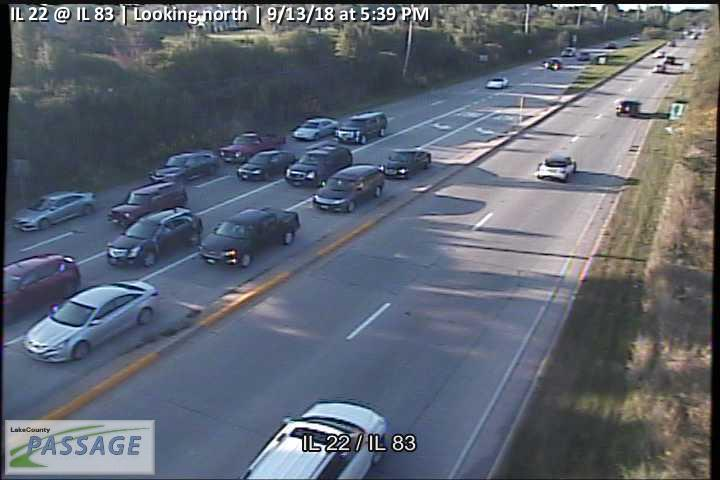SUV: (240, 400, 389, 480), (104, 207, 202, 266), (313, 164, 386, 213), (284, 144, 353, 187), (335, 111, 389, 145), (615, 100, 642, 116)
Sedan: (23, 279, 162, 363), (12, 189, 98, 231), (106, 182, 188, 225), (149, 151, 219, 182), (236, 149, 297, 180), (379, 148, 431, 179), (535, 154, 577, 183), (292, 117, 339, 141), (486, 76, 509, 89)
Truck: (199, 206, 300, 268), (219, 131, 286, 164)
